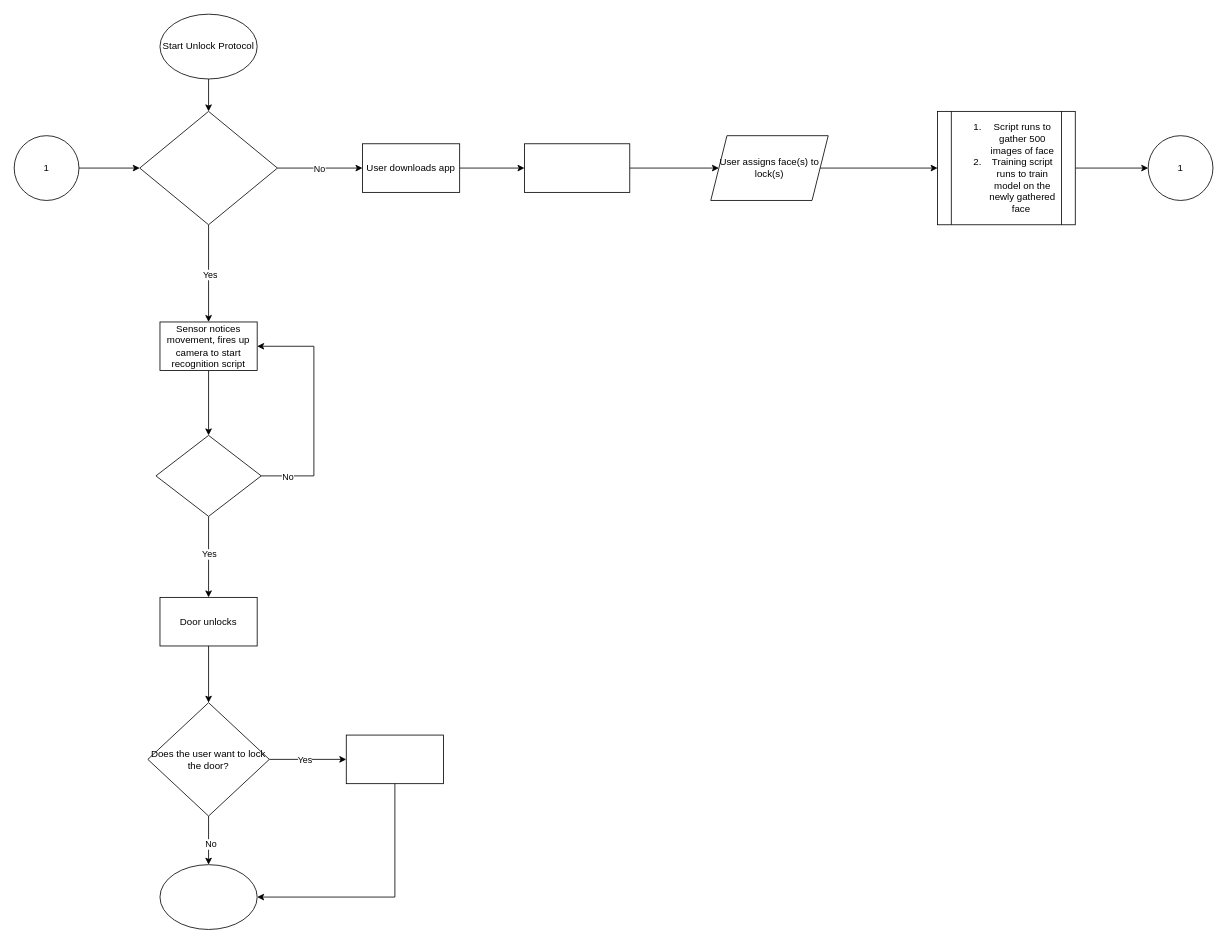
Some shapes in this 1227 by 944 pixel diagram are drawn without their labels. Here are the shapes that lost their labels. From the top down, the box of each, then its label:
(139, 111, 277, 225): Has the user already completed the setup
(524, 143, 630, 192): User assigns lock to account (via key/code)
(155, 435, 261, 516): Is face recognised?
(345, 734, 443, 784): Rotate the door-handle up
(159, 864, 257, 929): End
